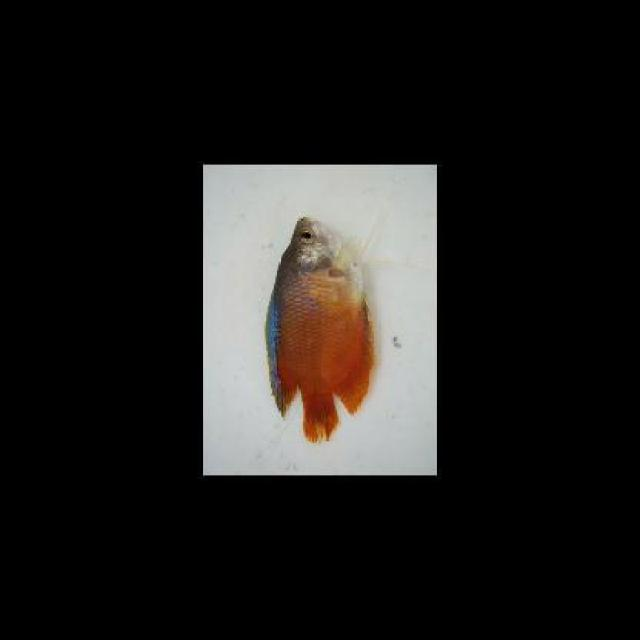Gourami: (266, 211, 383, 438)
